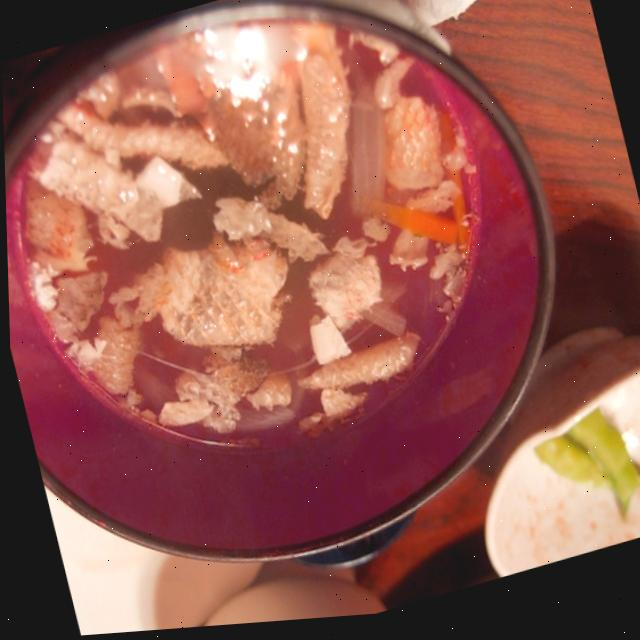汤锅炖物: (0, 0, 545, 518)
